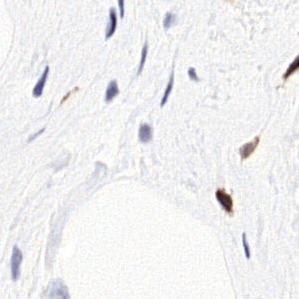Lymphocyte: (215, 187, 237, 213)
